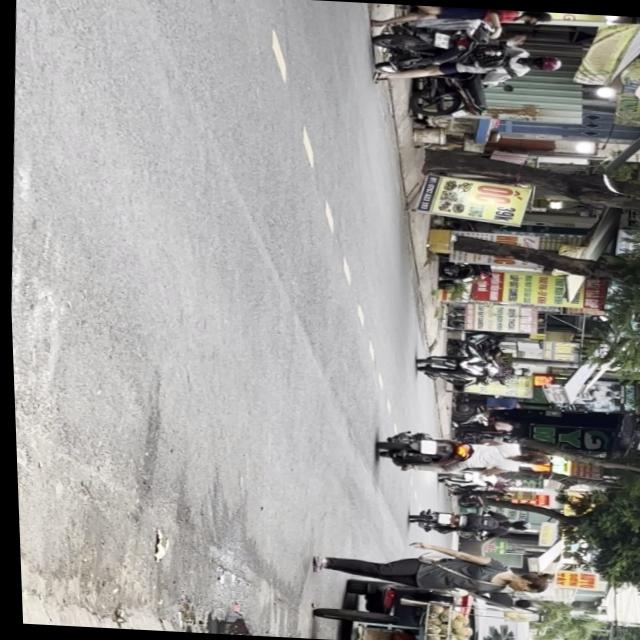helmet: (528, 52, 563, 72)
licenseplate: (369, 22, 566, 90), (371, 427, 549, 478)
motorcyclist: (517, 449, 548, 465)
nohelmet: (416, 438, 436, 454), (434, 31, 451, 48)
